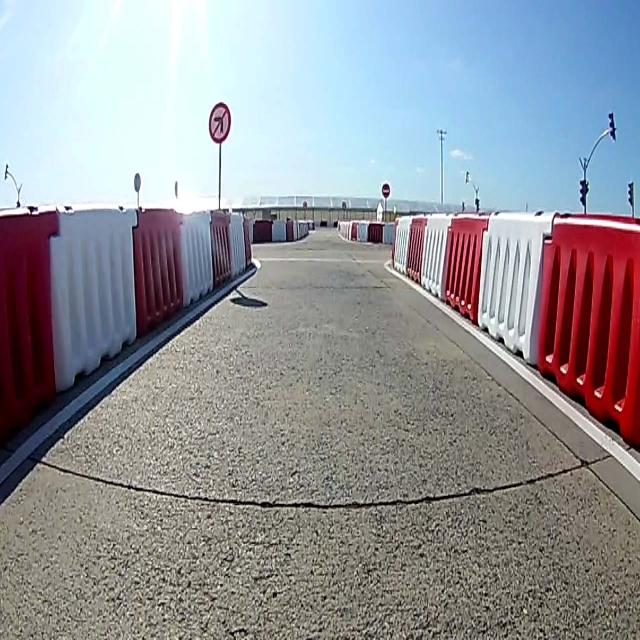girisyok: (382, 182, 391, 200)
soladonulmez: (208, 103, 230, 142)
